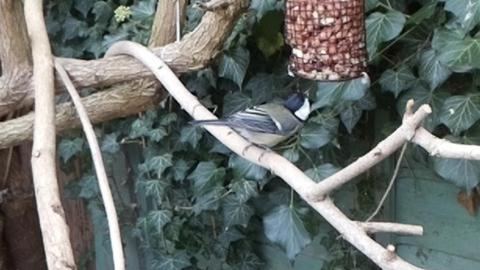great tit: (187, 88, 313, 162)
